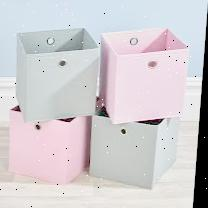cube: (99, 27, 191, 122), (10, 28, 102, 122), (89, 114, 183, 189), (7, 104, 92, 184)
